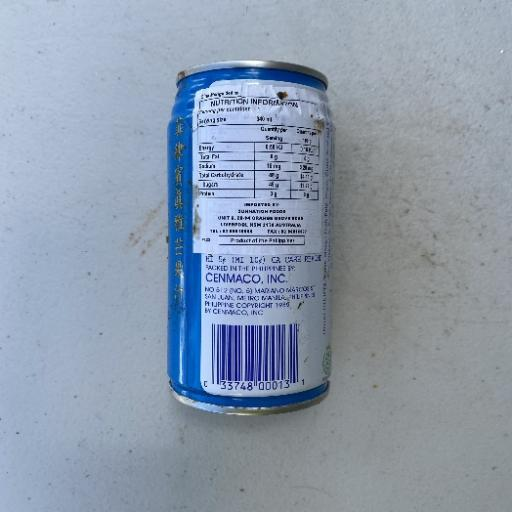Metal: (164, 59, 336, 416)
